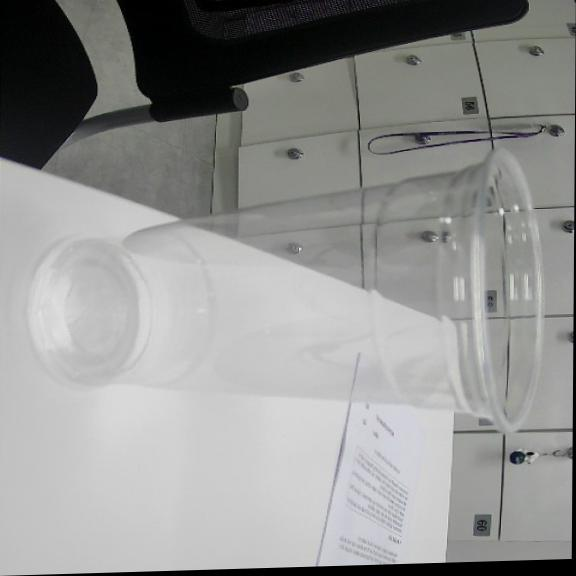Plastik: (28, 149, 540, 433)
